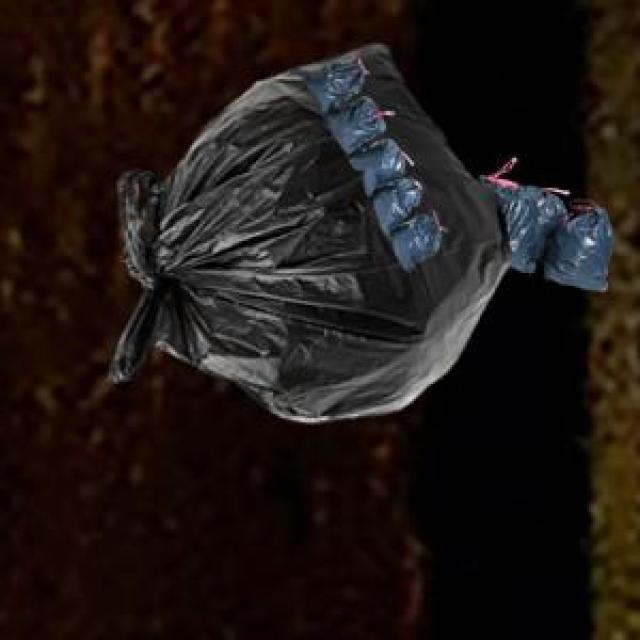Trashbag: (101, 39, 497, 424), (485, 175, 562, 281), (553, 208, 624, 293)
